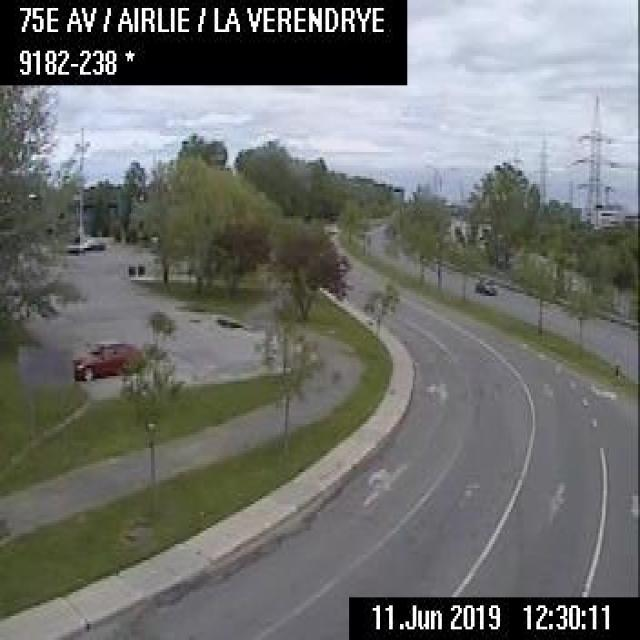vehicle: (72, 338, 143, 380), (472, 272, 494, 293)
